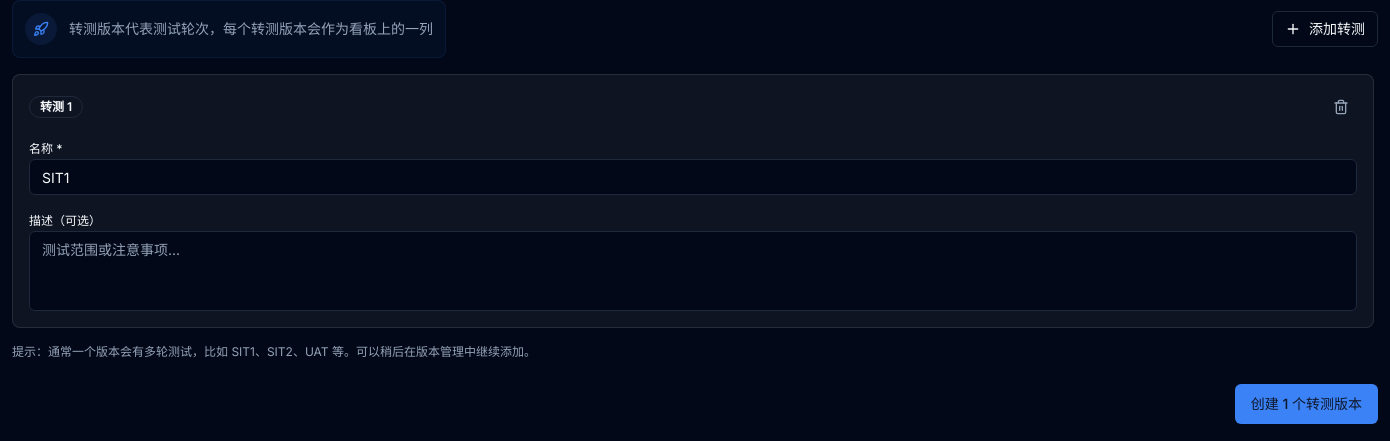
CreateTestCyclesStep › 创建转测版本 › 创建中应该显示加载状态
What coordinates should you click on to do the following:
click the button "创建 1 个转测版本"
I would click on:
 (1306, 404)
Its box is x1=1235 y1=384 x2=1378 y2=424.
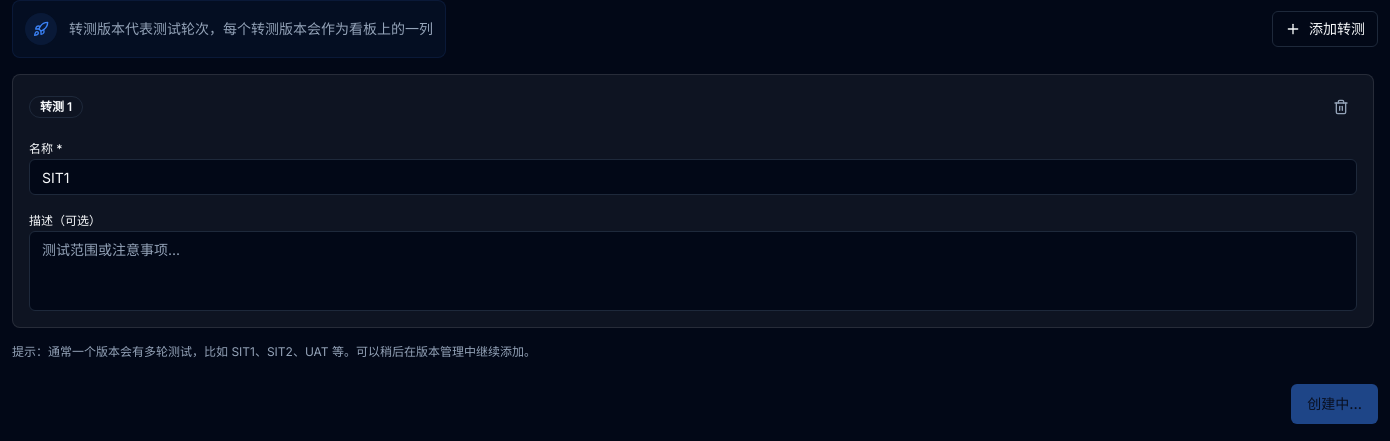
Expected: the button "创建中..." is shown, x1=1291 y1=384 x2=1378 y2=424
